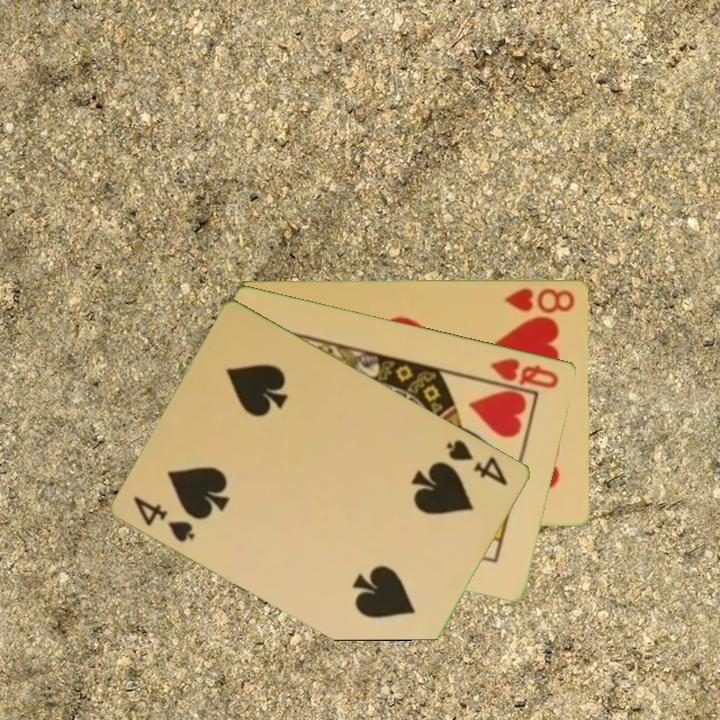4s: (443, 435, 511, 489), (130, 492, 198, 545)
8h: (501, 284, 578, 315)
Qh: (487, 354, 562, 391)
